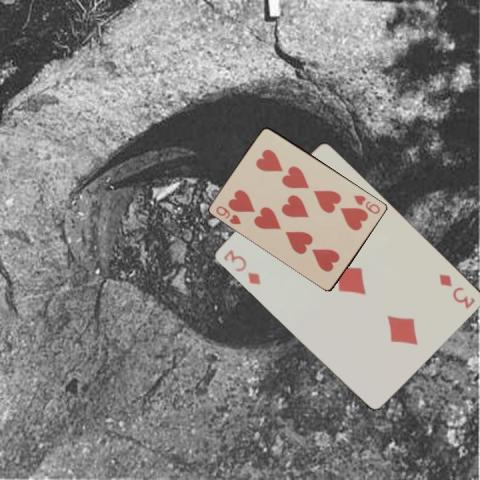3d: (435, 271, 476, 311), (220, 247, 262, 286)
9h: (351, 192, 382, 215), (213, 203, 243, 226)
